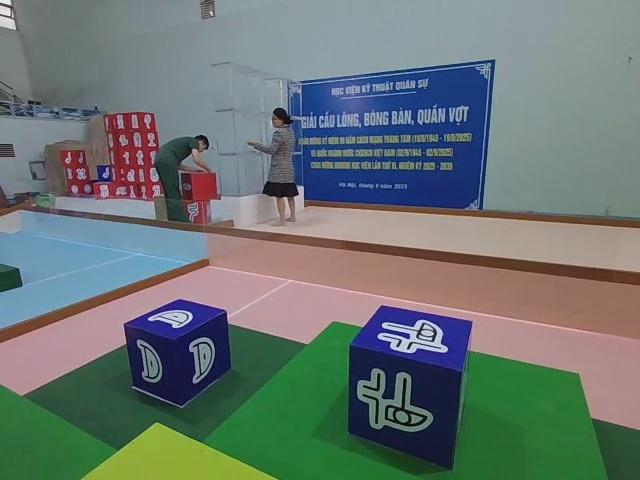R2 Real Blue: (349, 303, 475, 469), (127, 302, 235, 411)
